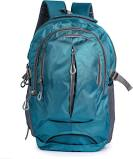bag: (11, 1, 124, 159)
